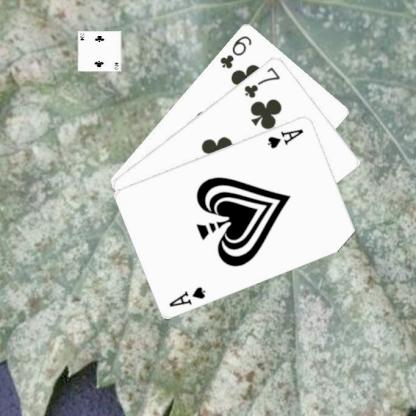6C: (217, 32, 253, 70)
7C: (241, 64, 282, 100)
AS: (166, 283, 207, 308), (265, 126, 305, 150)
